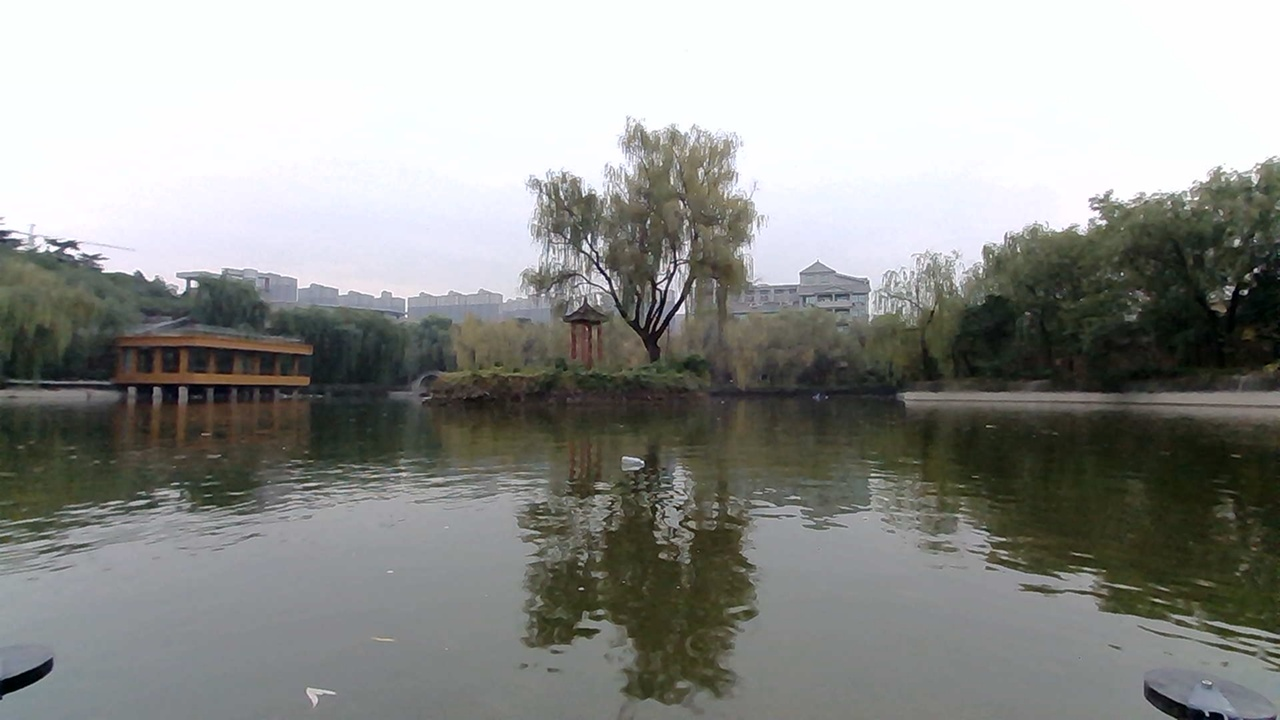bottle: (597, 444, 661, 477)
